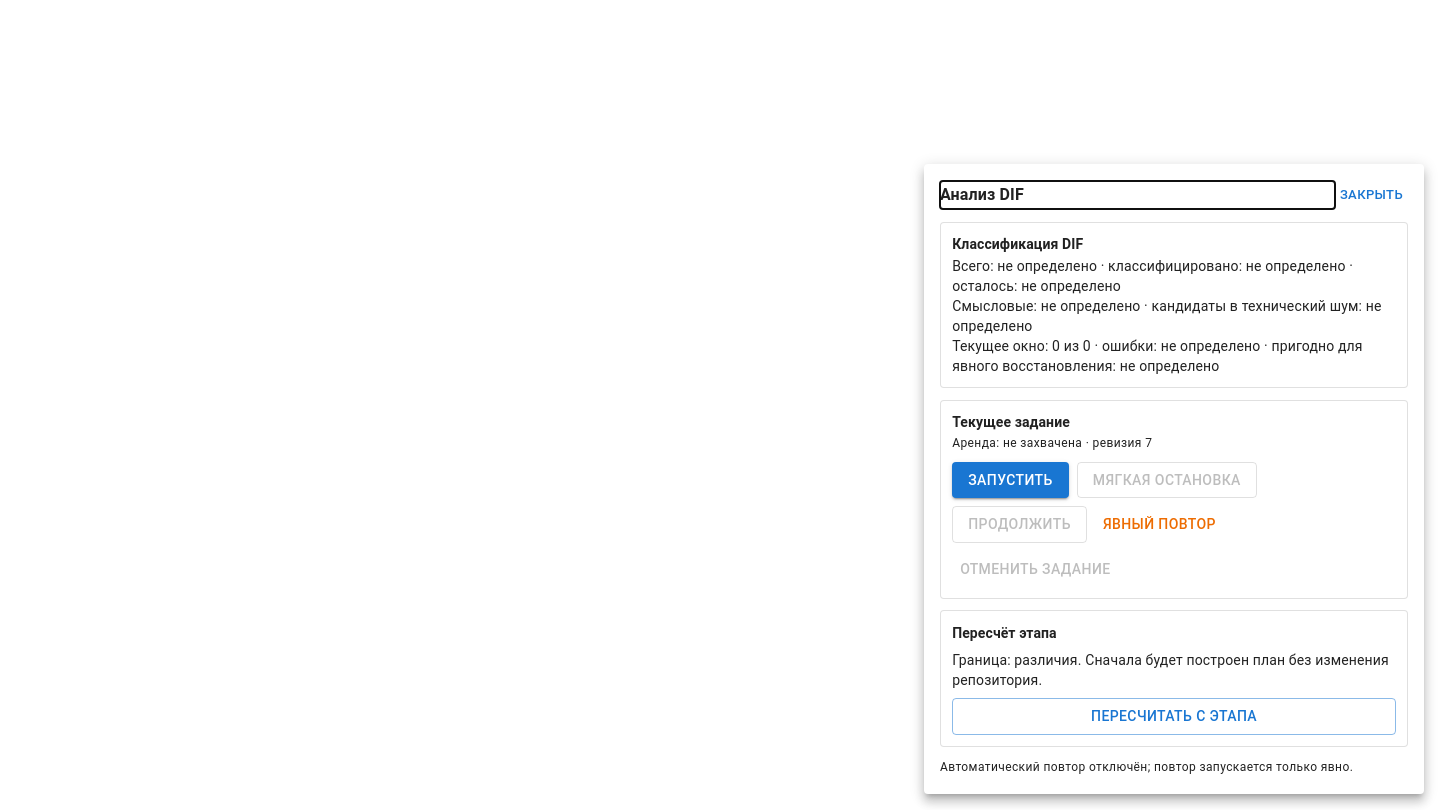
Test: completed run remains selectable as an explicit retry predecessor
The image size is (1440, 810).
Click the button "Явный повтор": (1159, 524) [1095,506,1224,543]
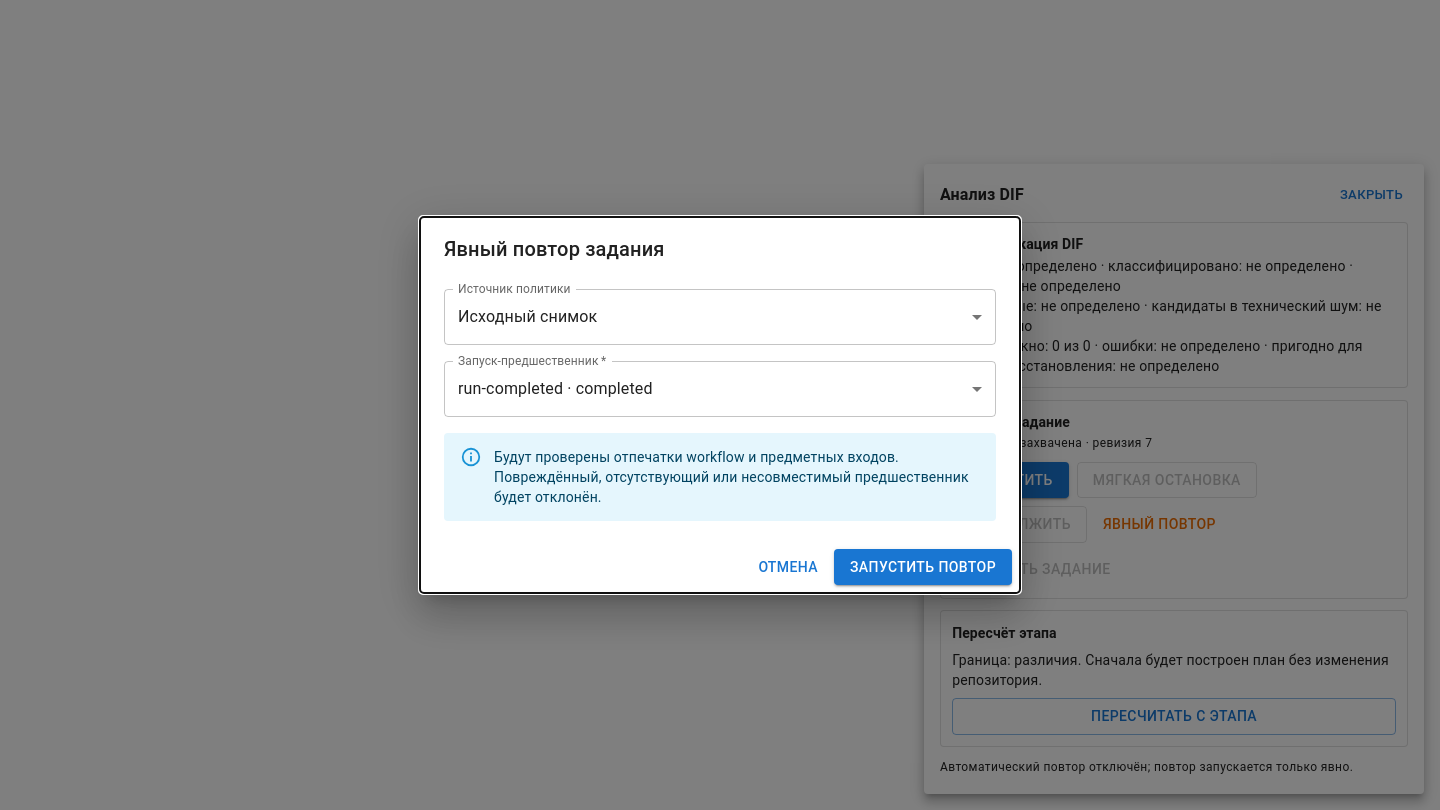
Now the dropdown named "Запуск-предшественник" reads "run-completed · completed", box [458,379,653,398]
